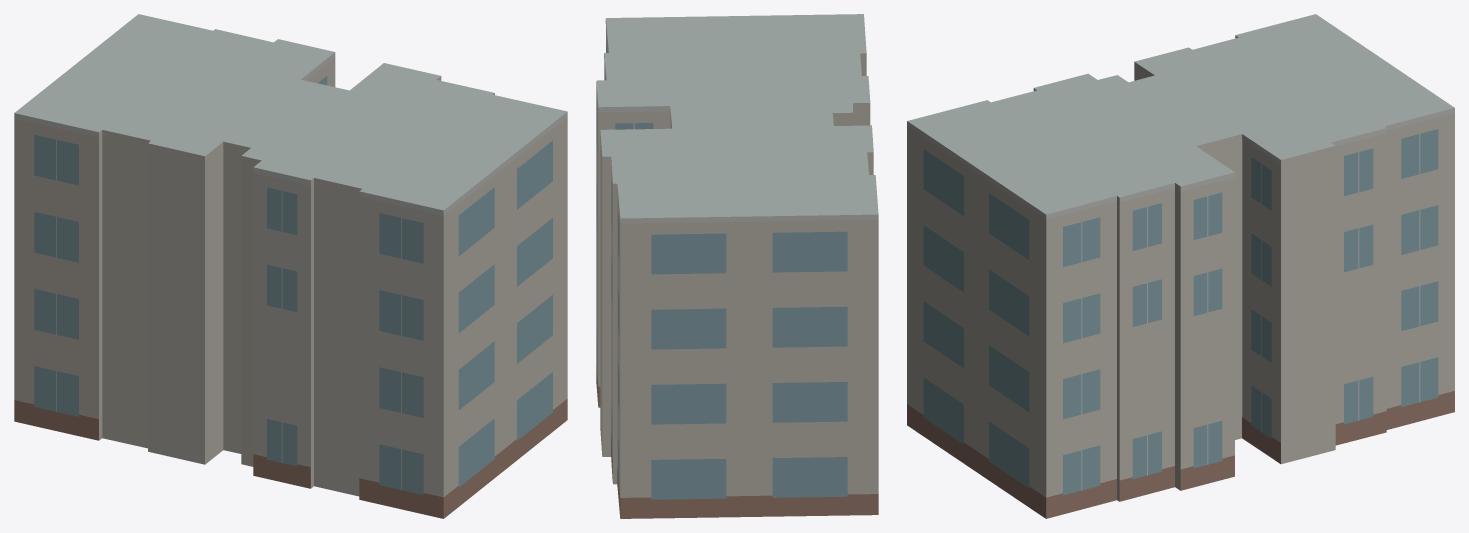
Rendered from survey-upis-32674413.glb.
3 renders of one model, left to right at view 1: azimuth 30°, elevation 25°; view 2: azimuth 150°, elevation 25°; view 3: azimuth 270°, elevation 25°, orthographic. The views are drawn at different scales.
Visible parts, largest first — view 1: survey-upis-32674413.tmp; view 2: survey-upis-32674413.tmp; view 3: survey-upis-32674413.tmp.
Boxes of the visible parts, x1,y1,x2,y2 form: survey-upis-32674413.tmp: (14,14,567,518); survey-upis-32674413.tmp: (596,14,878,518); survey-upis-32674413.tmp: (907,14,1454,518).
Bounding box in the file's own units: 20.45 × 14.46 × 23.6.
